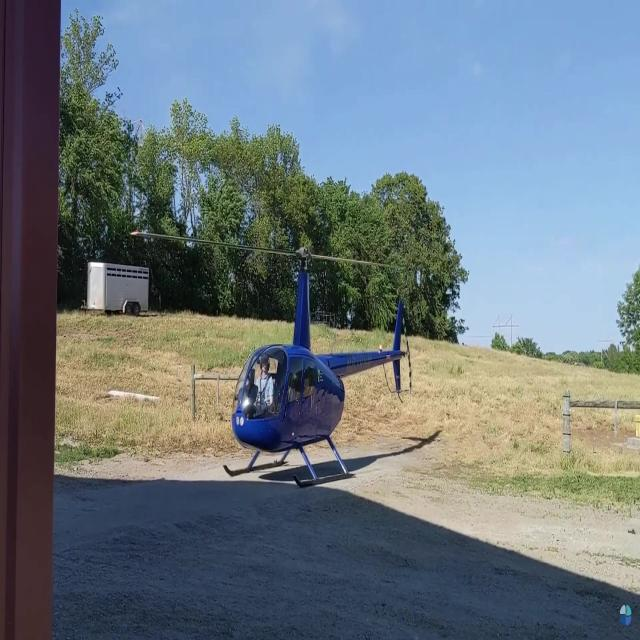CIV_HELO: (222, 245, 402, 490)
